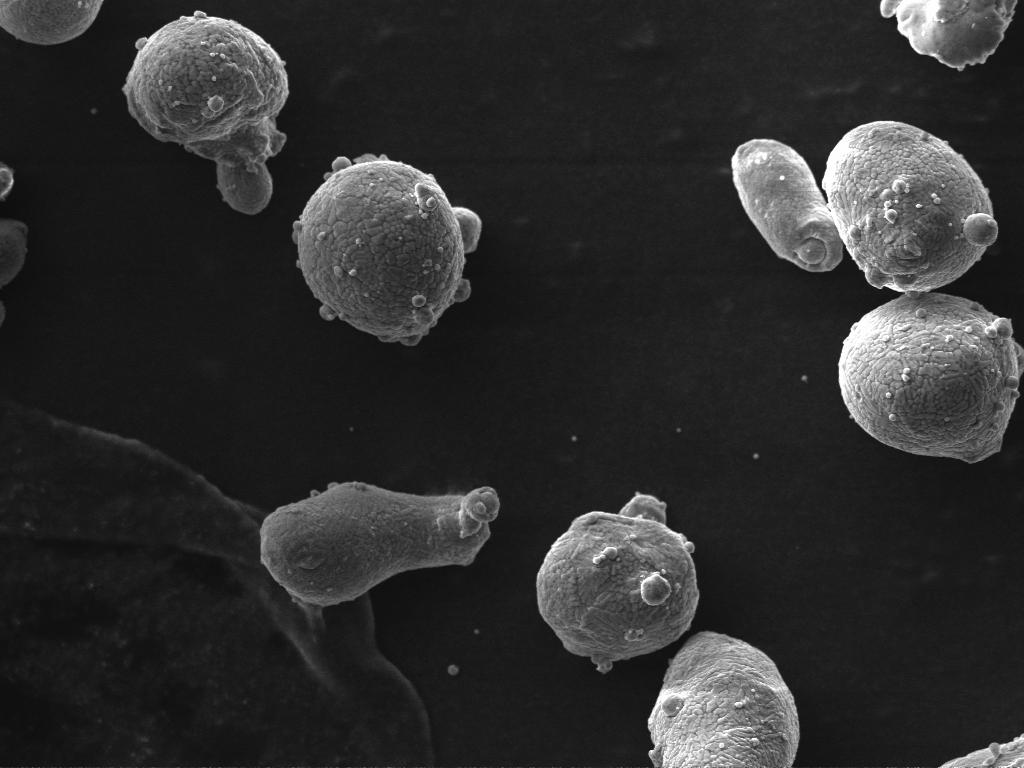Powder: (292, 154, 482, 345), (124, 12, 288, 213), (838, 292, 1024, 461), (822, 122, 998, 292), (260, 482, 500, 606), (536, 494, 698, 672), (648, 632, 800, 767), (732, 140, 842, 272), (882, 0, 1015, 69), (0, 1, 102, 45)
